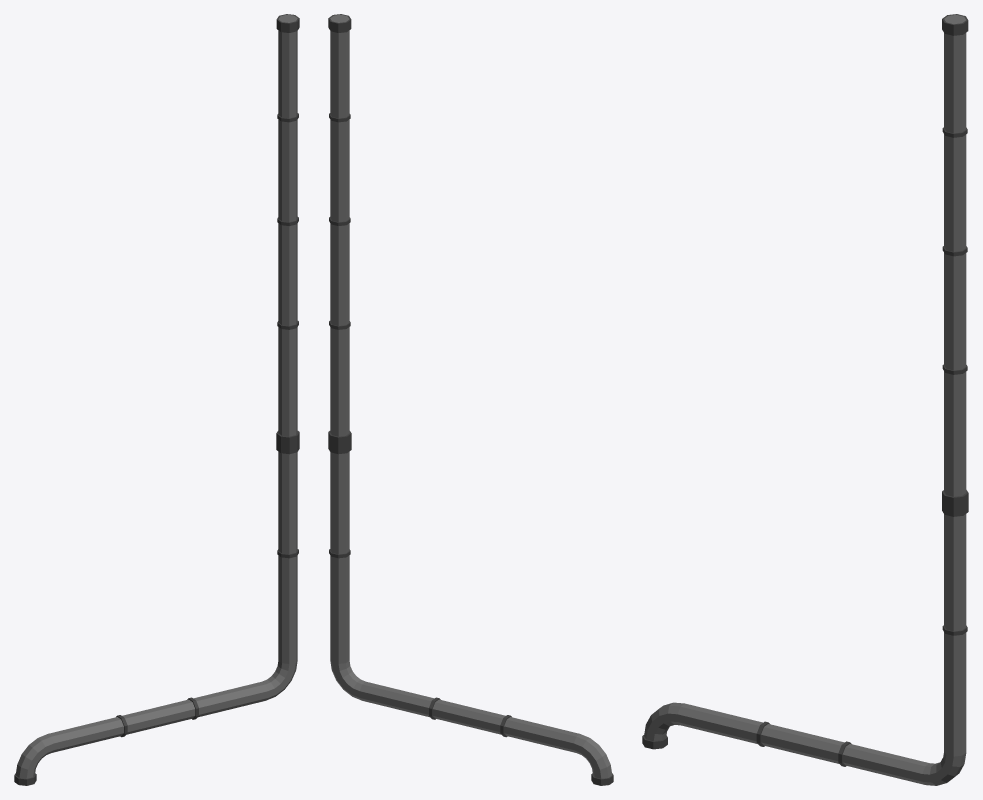
Rendered from WallDecor_03.fbx.
The picture shows the model from 3 angles, left to right: view 1: azimuth 30°, elevation 25°; view 2: azimuth 150°, elevation 25°; view 3: azimuth 330°, elevation 25°; orthographic projection. The views are drawn at different scales.
Visible parts, largest first — view 1: WallDecor_03; view 2: WallDecor_03; view 3: WallDecor_03.
Boxes of the visible parts, x1,y1,x2,y2 form: WallDecor_03: [14, 14, 299, 785]; WallDecor_03: [328, 14, 613, 785]; WallDecor_03: [642, 14, 968, 785].
Bounding box in the file's own units: 379 × 900 × 25.45.
